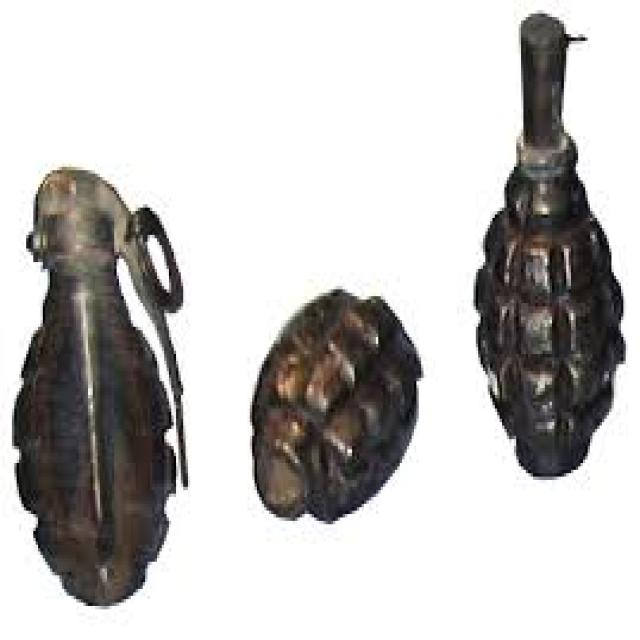grenade: (13, 164, 197, 618), (468, 6, 632, 485), (249, 290, 425, 525)
